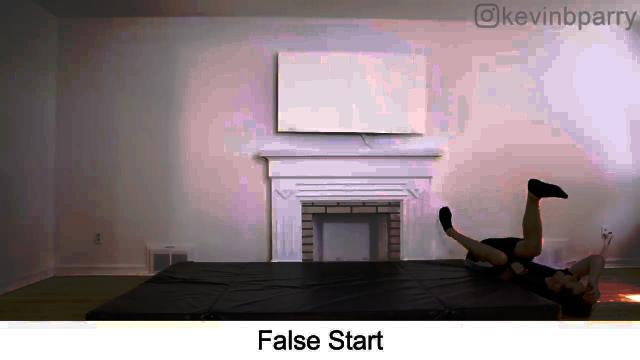jatuh: (436, 172, 612, 318)
